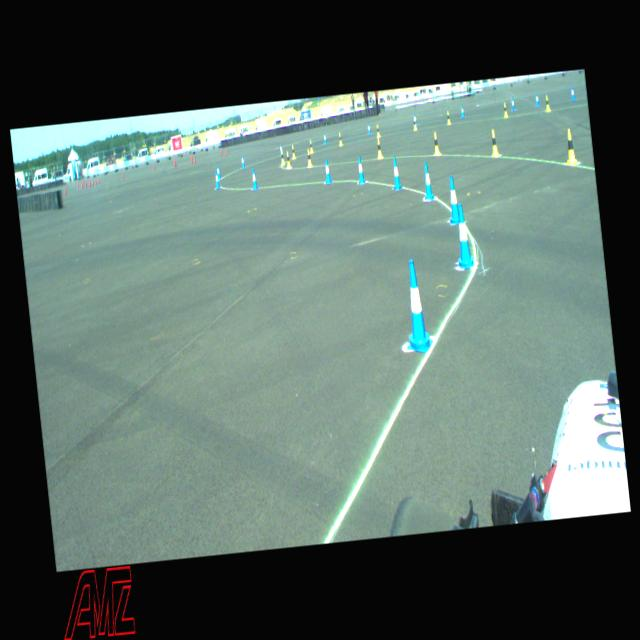blue_cone: (398, 258, 433, 354), (452, 203, 473, 267), (445, 176, 461, 224), (422, 162, 434, 200), (391, 156, 402, 188), (322, 158, 332, 183), (356, 156, 365, 183), (250, 168, 258, 188), (213, 170, 220, 188), (278, 143, 284, 156), (366, 122, 371, 135), (322, 132, 327, 144), (510, 96, 514, 110), (570, 86, 574, 100), (460, 104, 464, 118), (534, 92, 538, 105), (240, 154, 244, 167), (217, 164, 220, 179), (413, 114, 417, 125)
yellow_cone: (562, 128, 576, 164), (489, 128, 499, 156), (432, 131, 439, 155), (376, 136, 382, 157), (306, 148, 312, 166), (285, 150, 291, 168), (544, 94, 550, 111), (502, 102, 508, 116), (290, 144, 296, 158), (337, 132, 342, 146), (375, 123, 380, 137), (412, 116, 417, 130), (280, 148, 284, 165), (446, 110, 450, 125), (308, 139, 312, 152)
